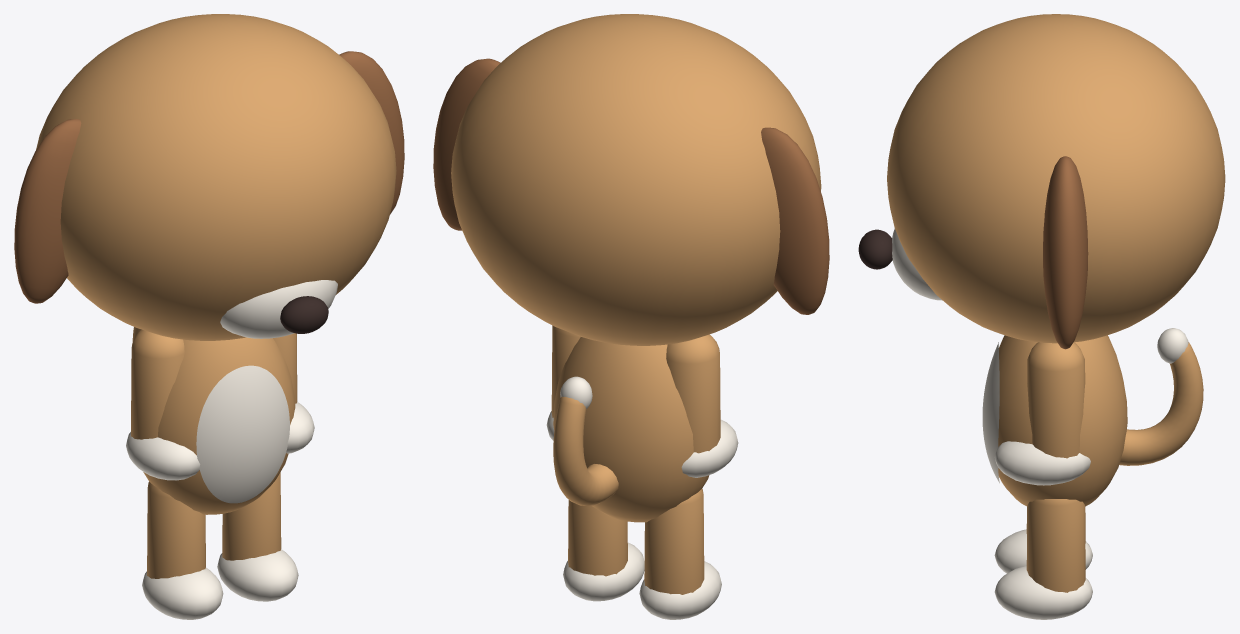
File: animal-dog.glb
3 renders of one model, left to right at view 1: azimuth 30°, elevation 25°; view 2: azimuth 150°, elevation 25°; view 3: azimuth 270°, elevation 25°, orthographic. The views are drawn at different scales.
Visible parts, largest first — view 1: head, belly, torso, ear_R, leg_R, arm_R, leg_L, muzzle, foot_L, foot_R, ear_L, hand_R (+3 smaller); view 2: head, torso, ear_R, leg_R, arm_R, tail, ear_L, leg_L, foot_R, foot_L, hand_R, arm_L (+1 smaller); view 3: head, torso, ear_L, arm_L, leg_L, tail, foot_L, hand_L, belly, foot_R, nose, muzzle (+1 smaller).
Part boxes in pixels (x1,y1,x2,y2): head: (36, 14, 396, 340); belly: (196, 365, 289, 503); torso: (143, 337, 295, 514); ear_R: (14, 119, 81, 303); leg_R: (147, 481, 205, 578); arm_R: (131, 329, 184, 439); leg_L: (222, 472, 281, 560); muzzle: (220, 280, 337, 338); foot_L: (217, 549, 298, 601); foot_R: (142, 567, 223, 619); ear_L: (339, 51, 404, 214); hand_R: (126, 432, 200, 480); head: (451, 14, 821, 345); torso: (553, 337, 709, 522); ear_R: (761, 127, 829, 314); leg_R: (644, 489, 704, 594); arm_R: (666, 334, 720, 453); tail: (553, 396, 618, 505); ear_L: (433, 58, 500, 230); leg_L: (568, 500, 627, 576); foot_R: (639, 561, 721, 619); foot_L: (563, 542, 644, 601); hand_R: (681, 419, 738, 477); arm_L: (551, 325, 580, 417); head: (887, 14, 1225, 343); torso: (998, 335, 1127, 506); ear_L: (1043, 156, 1088, 349); arm_L: (1027, 342, 1085, 458); leg_L: (1026, 499, 1085, 592); tail: (1119, 342, 1203, 465); foot_L: (994, 566, 1092, 619); hand_L: (994, 441, 1090, 485); belly: (982, 342, 999, 483); foot_R: (994, 529, 1092, 573); nose: (858, 229, 892, 269); muzzle: (892, 228, 942, 300).
Bounding box in the file's own units: 0.5762 × 0.808 × 0.4769.
